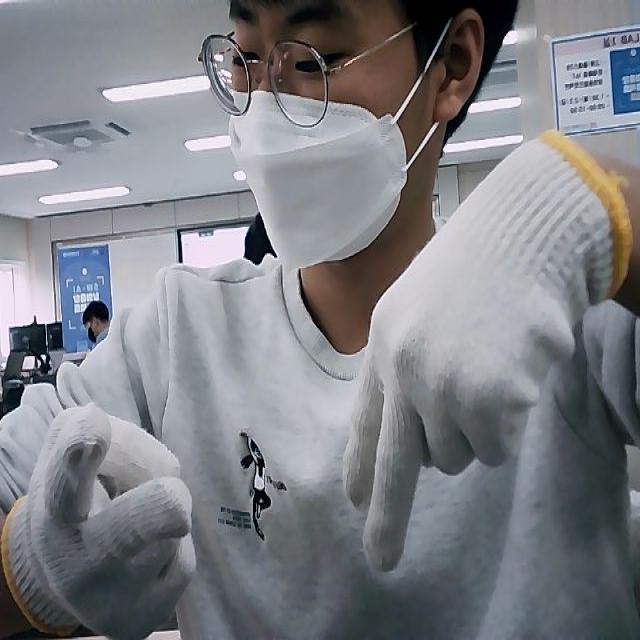gloves: (340, 129, 630, 576), (0, 403, 197, 640)
